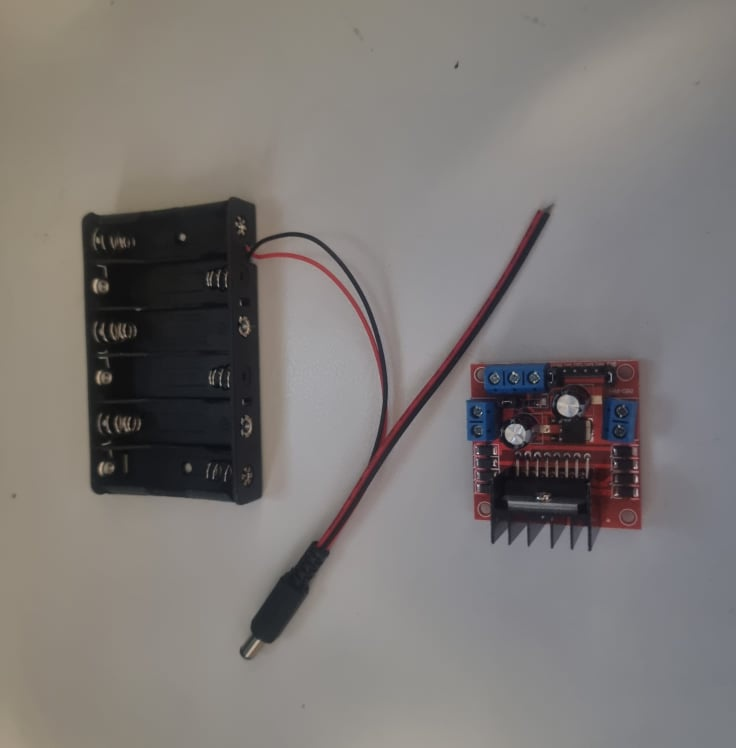BATTERY BOX: (84, 195, 260, 506)
MOTOR: (466, 360, 640, 551)
